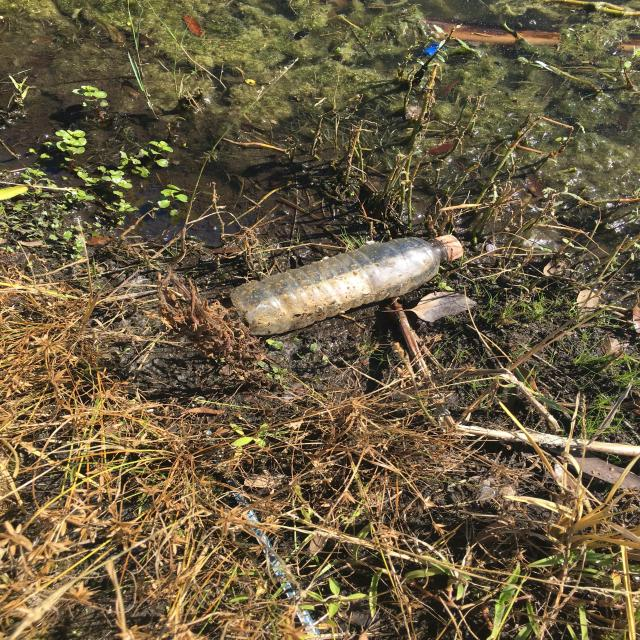litter: (320, 146, 451, 308), (313, 133, 348, 155), (59, 147, 78, 164)
